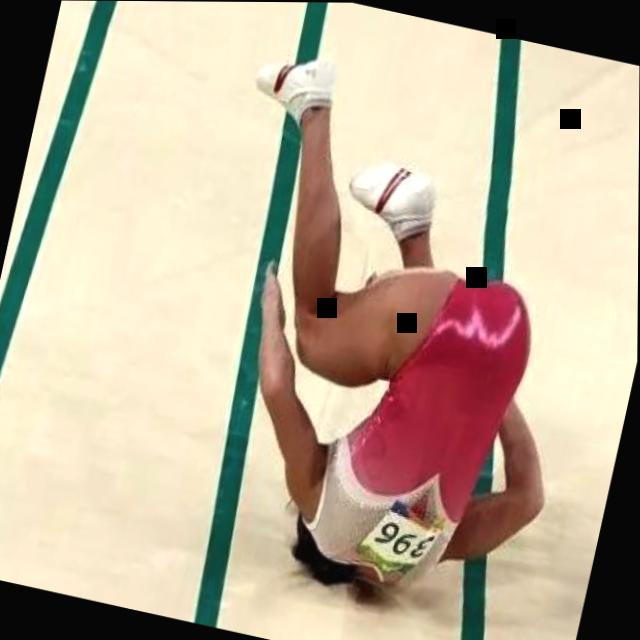Fall-Detected: (150, 15, 637, 640)
